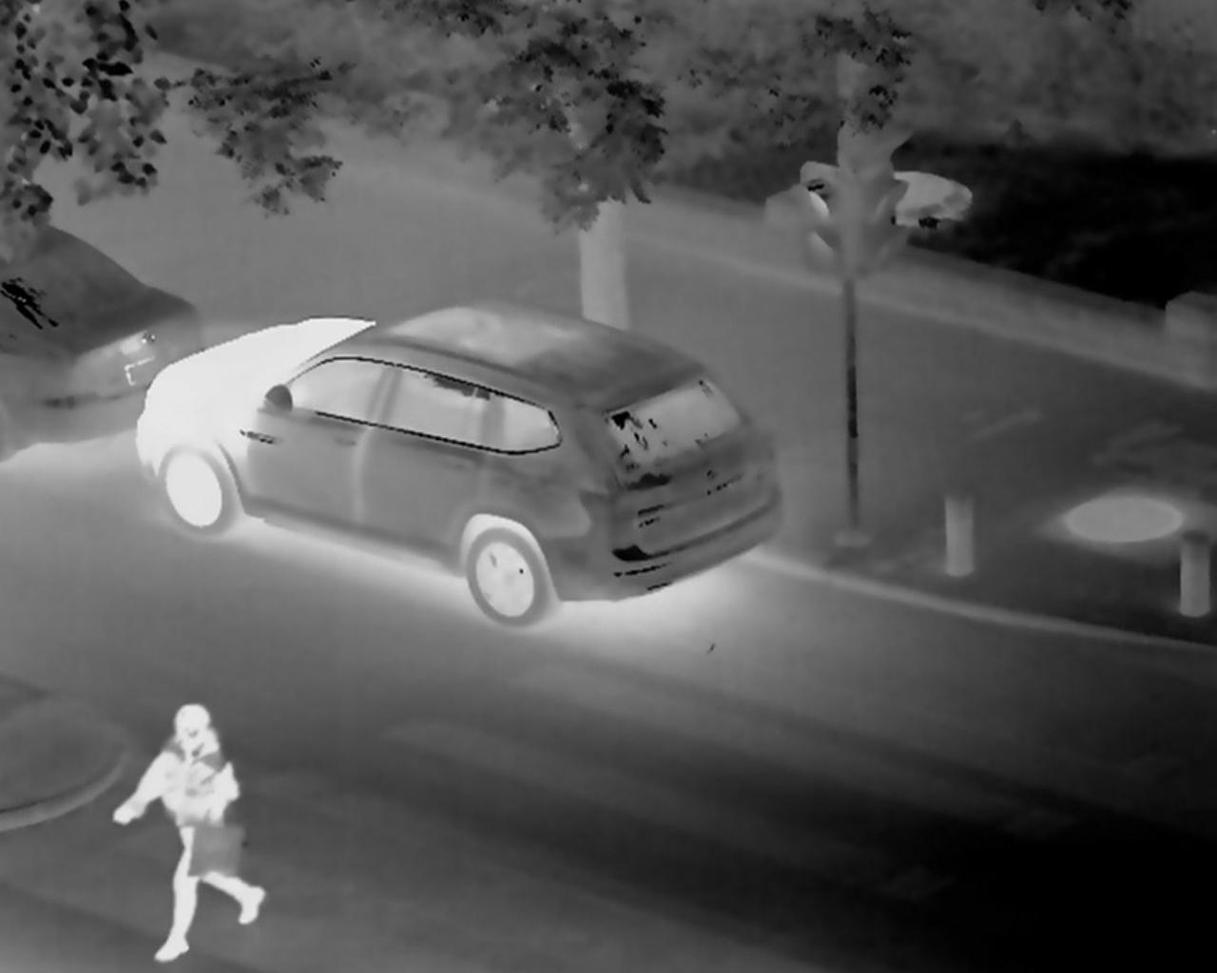person: (131, 702, 294, 962)
